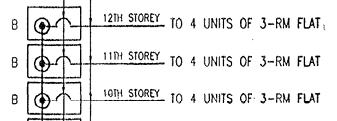Single Phase Tap-Off Unit: (24, 5, 85, 43), (24, 81, 85, 118), (24, 43, 83, 80)
